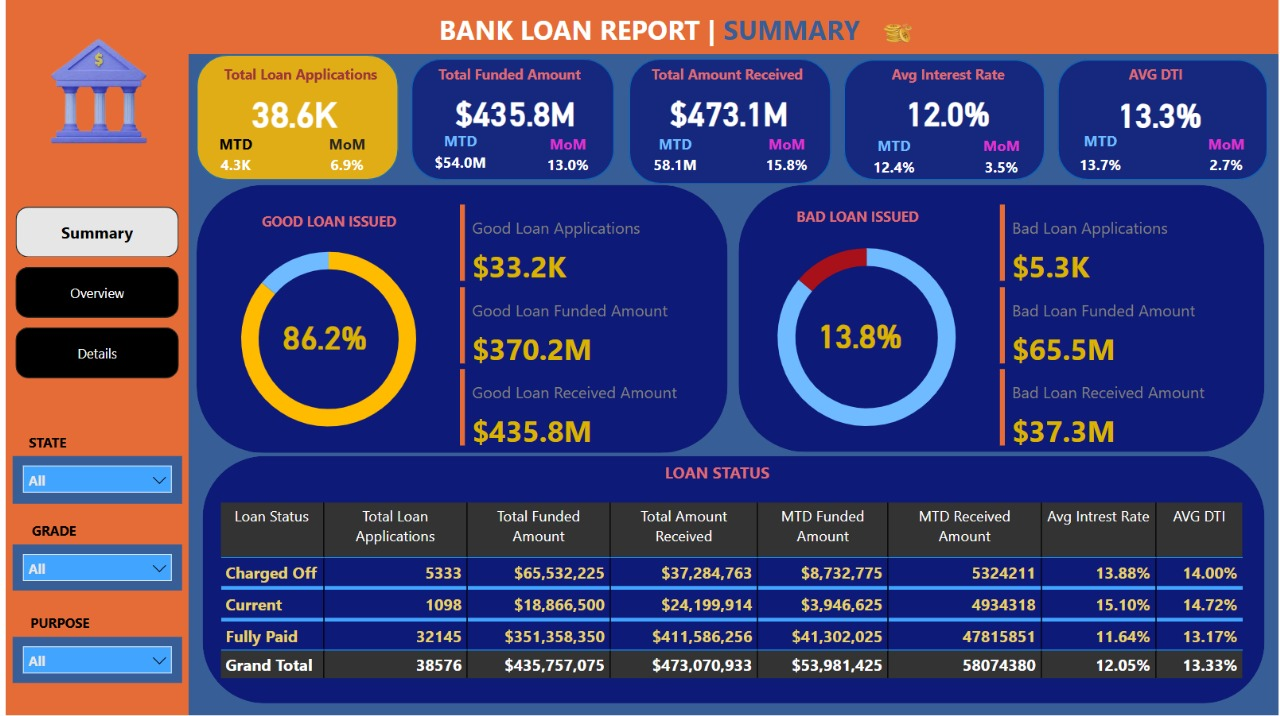

This screenshot's page, from the dashboard's own definition file:
{"tool":"powerbi","page":{"name":"Summary","canvas":[1280,720],"ordinal":0},"visuals":[{"type":"shape","box":[0,31.2,183.7,690.2],"z":0},{"type":"shape","box":[0,0,1280.3,54.9],"z":1000},{"type":"shape","box":[192.1,55.2,202.9,126.1],"z":2000},{"type":"textbox","box":[431.1,6,453.9,49.2],"z":3000},{"type":"card","fields":{"Values":["financial_loan.Total Loan Applications"]},"box":[237.7,91.3,105.7,43.2],"z":4000},{"type":"textbox","box":[198.1,60,196.9,31.2],"z":5000},{"type":"card","title":"MTD","fields":{"Values":["financial_loan.MTD Loan Applications"]},"box":[198.1,134.5,67.2,46.8],"z":6000},{"type":"card","title":"MoM","fields":{"Values":["financial_loan.MoM Loan Applications"]},"box":[315.8,134.5,55.2,46.8],"z":7000},{"type":"shape","box":[408.1,59.3,203.5,122.1],"z":8000},{"type":"card","fields":{"Values":["financial_loan.Total Funded Amount"]},"box":[439.5,91.3,146.5,43.2],"z":9000},{"type":"textbox","box":[408.3,60,196.9,31.2],"z":10000},{"type":"card","title":"MTD","fields":{"Values":["financial_loan.MTD Funded Amount"]},"box":[424.1,131.4,66.8,46.8],"z":11000},{"type":"card","title":"MoM","fields":{"Values":["financial_loan.MoM Total Funded Amount"]},"box":[537.9,134.5,55.2,46.8],"z":12000},{"type":"shape","box":[626.8,58.8,202.9,126.1],"z":13000},{"type":"textbox","box":[626.8,60,196.9,31.2],"z":14000},{"type":"card","fields":{"Values":["financial_loan.Total Amount Received"]},"box":[654.4,91.3,146.5,43.2],"z":15000},{"type":"card","title":"MTD","fields":{"Values":["financial_loan.MTD Received Amount"]},"box":[640,134.5,67.2,46.8],"z":16000},{"type":"card","title":"MoM","fields":{"Values":["financial_loan.MoM Received Amount"]},"box":[757.7,134.5,55.2,46.8],"z":17000},{"type":"shape","box":[843,60.5,202.3,120.9],"z":18000},{"type":"textbox","box":[848.9,60,196.9,31.2],"z":19000},{"type":"shape","box":[1058.1,60.5,210.5,120.9],"z":20000},{"type":"shape","box":[191.9,186,533.7,269.8],"z":21000},{"type":"textbox","box":[1057.9,60,196.9,31.2],"z":22000},{"type":"card","fields":{"Values":["financial_loan.Avg Intrest Rate"]},"box":[874.1,91.3,146.5,43.2],"z":23000},{"type":"card","title":"MTD","fields":{"Values":["financial_loan.MTD Avg Int Rate"]},"box":[859.7,135.7,67.2,46.8],"z":24000},{"type":"card","title":"MoM","fields":{"Values":["financial_loan.MoM Avg Int Rate"]},"box":[973.8,135.7,55.2,46.8],"z":25000},{"type":"card","fields":{"Values":["financial_loan.AVG DTI"]},"box":[1087.2,91.9,146.5,44.2],"z":26000},{"type":"card","title":"MTD","fields":{"Values":["financial_loan.MTD AVG DTI"]},"box":[1067.5,130.9,67.2,54],"z":27000},{"type":"shape","box":[197.7,459.3,1068.6,248.8],"z":28000},{"type":"card","title":"MoM","fields":{"Values":["financial_loan.MoM AVG DTI"]},"box":[1199.5,134.5,55.2,46.8],"z":29000},{"type":"shape","box":[737.2,186,529.1,268.6],"z":30000},{"type":"donutChart","fields":{"Category":["financial_loan.Good Vs Bad Loan"],"Y":["financial_loan.Total Loan Applications"]},"box":[210.5,224.4,229.1,234.9],"z":31000},{"type":"card","fields":{"Values":["financial_loan.Good Loan %"]},"box":[264,318.6,114,38.4],"z":32000},{"type":"textbox","box":[11.6,431.4,60.5,27.9],"z":33000},{"type":"cardVisual","fields":{"Data":["financial_loan.Good Loan Applications","financial_loan.Good Loan Funded Amount","financial_loan.Good Loan Received Amount"]},"box":[452.3,201.2,254.7,254.7],"z":34000},{"type":"donutChart","fields":{"Category":["financial_loan.Good Vs Bad Loan"],"Y":["financial_loan.Total Loan Applications"]},"box":[748.8,222.1,233.7,234.9],"z":35000},{"type":"textbox","box":[758.1,203.5,196.5,31.4],"z":36000},{"type":"card","fields":{"Values":["financial_loan.Bad Loan %"]},"box":[802.3,317.4,114,38.4],"z":37000},{"type":"cardVisual","fields":{"Data":["financial_loan.Bad Loan Applications","financial_loan.Bad Loan Funded Amount","financial_loan.Bad Loan Received Amount"]},"box":[995.4,201.2,238.4,254.7],"z":38000},{"type":"tableEx","fields":{"Values":["financial_loan.loan_status","financial_loan.Total Loan Applications","financial_loan.Total Funded Amount","financial_loan.Total Amount Received","financial_loan.MTD Funded Amount","financial_loan.MTD Received Amount","financial_loan.Avg Intrest Rate","financial_loan.AVG DTI"]},"box":[210.5,501.2,1058.1,187.2],"z":39000},{"type":"textbox","box":[617.4,459.3,196.5,31.4],"z":40000},{"type":"slicer","fields":{"Values":["financial_loan.address_state"]},"box":[7,459.3,169.8,47.7],"z":41000},{"type":"textbox","box":[226.7,208.1,196.5,31.4],"z":42000},{"type":"slicer","fields":{"Values":["financial_loan.grade"]},"box":[7,547.7,169.8,47.7],"z":43000},{"type":"textbox","box":[11.6,519.8,73.3,27.9],"z":44000},{"type":"slicer","fields":{"Values":["financial_loan.purpose"]},"box":[7,640.7,169.8,47.7],"z":45000},{"type":"textbox","box":[11.6,612.8,84.9,27.9],"z":46000},{"type":"image","box":[32.3,25.6,121.3,130.2],"z":46001},{"type":"image","box":[823.3,0,146.5,60.5],"z":46002},{"type":"pageNavigator","box":[10,208.2,163.6,173.7],"z":46003}]}

Visuals, with their boxes in screenshot pixels (x1, y1, x2, y2), scaled from the page's 1280x720 canvas onto the 1280x716 screenshot:
shape: rect(0, 31, 184, 715)
shape: rect(0, 0, 1279, 55)
shape: rect(192, 55, 395, 180)
textbox: rect(431, 6, 885, 55)
card - financial_loan.Total Loan Applications: rect(238, 91, 343, 134)
textbox: rect(198, 60, 395, 91)
"MTD" card: rect(198, 134, 265, 180)
"MoM" card: rect(316, 134, 371, 180)
shape: rect(408, 59, 612, 180)
card - financial_loan.Total Funded Amount: rect(440, 91, 586, 134)
textbox: rect(408, 60, 605, 91)
"MTD" card: rect(424, 131, 491, 177)
"MoM" card: rect(538, 134, 593, 180)
shape: rect(627, 58, 830, 184)
textbox: rect(627, 60, 824, 91)
card - financial_loan.Total Amount Received: rect(654, 91, 801, 134)
"MTD" card: rect(640, 134, 707, 180)
"MoM" card: rect(758, 134, 813, 180)
shape: rect(843, 60, 1045, 180)
textbox: rect(849, 60, 1046, 91)
shape: rect(1058, 60, 1269, 180)
shape: rect(192, 185, 726, 453)
textbox: rect(1058, 60, 1255, 91)
card - financial_loan.Avg Intrest Rate: rect(874, 91, 1021, 134)
"MTD" card: rect(860, 135, 927, 181)
"MoM" card: rect(974, 135, 1029, 181)
card - financial_loan.AVG DTI: rect(1087, 91, 1234, 135)
"MTD" card: rect(1068, 130, 1135, 184)
shape: rect(198, 457, 1266, 704)
"MoM" card: rect(1200, 134, 1255, 180)
shape: rect(737, 185, 1266, 452)
donutChart - financial_loan.Good Vs Bad Loan x financial_loan.Total Loan Applications: rect(210, 223, 440, 457)
card - financial_loan.Good Loan %: rect(264, 317, 378, 355)
textbox: rect(12, 429, 72, 457)
cardVisual - financial_loan.Good Loan Applications x financial_loan.Good Loan Funded Amount: rect(452, 200, 707, 453)
donutChart - financial_loan.Good Vs Bad Loan x financial_loan.Total Loan Applications: rect(749, 221, 982, 454)
textbox: rect(758, 202, 955, 234)
card - financial_loan.Bad Loan %: rect(802, 316, 916, 354)
cardVisual - financial_loan.Bad Loan Applications x financial_loan.Bad Loan Funded Amount: rect(995, 200, 1234, 453)
tableEx - financial_loan.loan_status x financial_loan.Total Loan Applications: rect(210, 498, 1269, 685)
textbox: rect(617, 457, 814, 488)
slicer - financial_loan.address_state: rect(7, 457, 177, 504)
textbox: rect(227, 207, 423, 238)
slicer - financial_loan.grade: rect(7, 545, 177, 592)
textbox: rect(12, 517, 85, 545)
slicer - financial_loan.purpose: rect(7, 637, 177, 685)
textbox: rect(12, 609, 96, 637)
image: rect(32, 25, 154, 155)
image: rect(823, 0, 970, 60)
pageNavigator: rect(10, 207, 174, 380)
